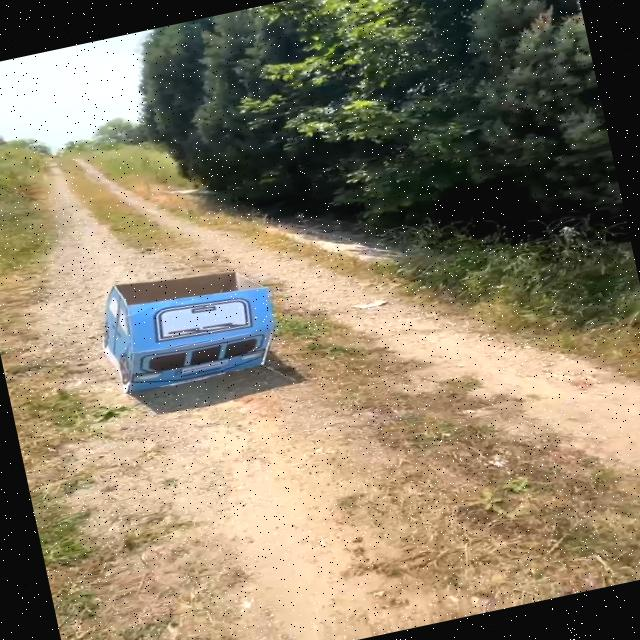blue_car: (45, 237, 325, 416)
